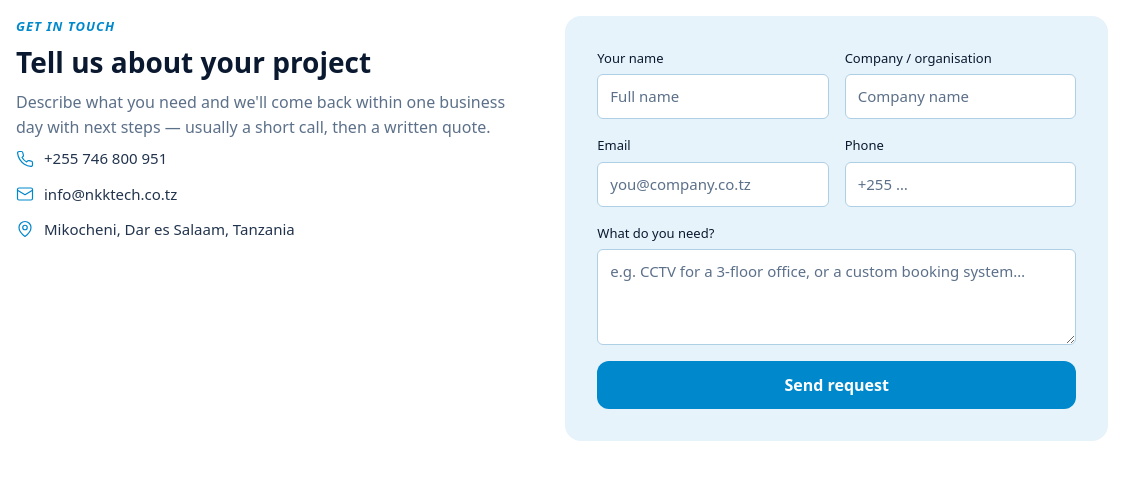
Test: QuoteSection form › shows an error when the email is malformed and no phone is given
Type "Ada Lovelace" into the field labelled "Your name" at (713, 97), box [597,74,829,119]
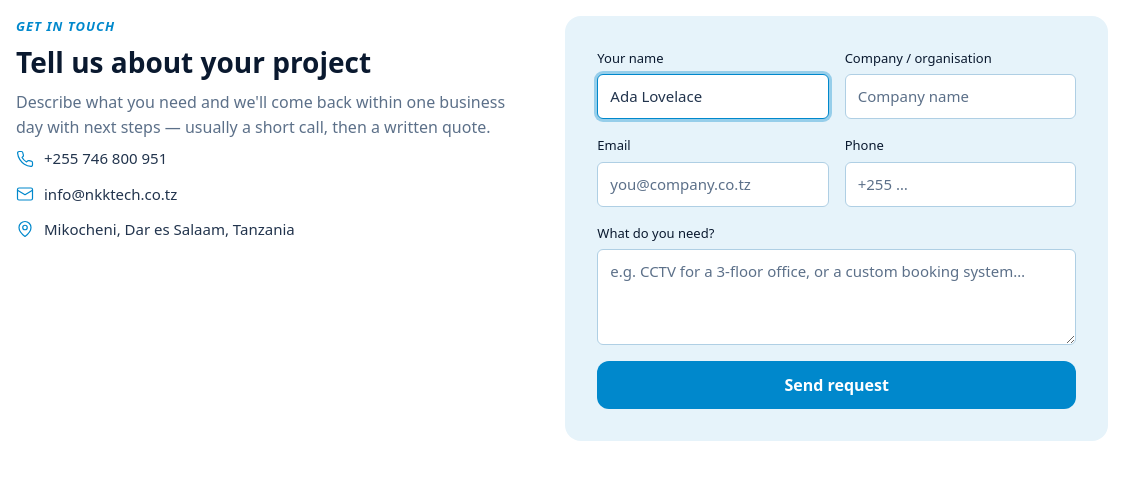
Type "A booking system" into the text box labelled "What do you need?" at (837, 297), box [597,249,1076,345]
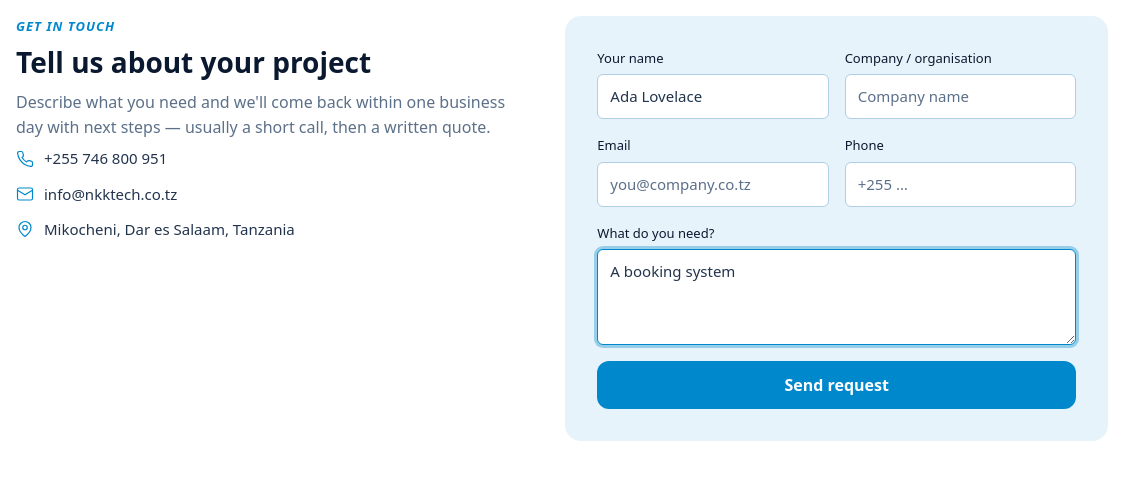
Type "not-an-email" into the field labelled "Email" at (713, 184), box [597,162,829,207]
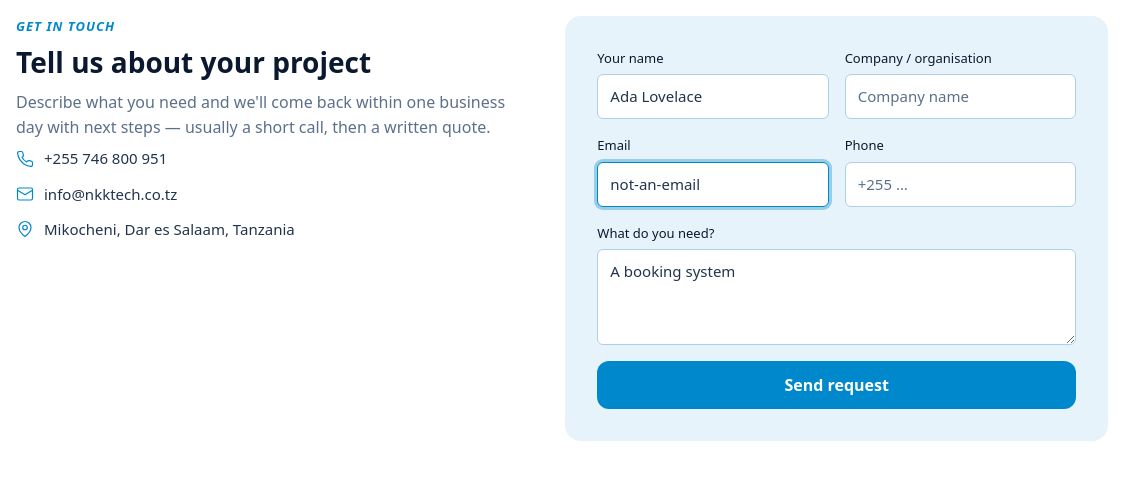
Click the button "Send request" at (837, 385), box [597,361,1076,409]
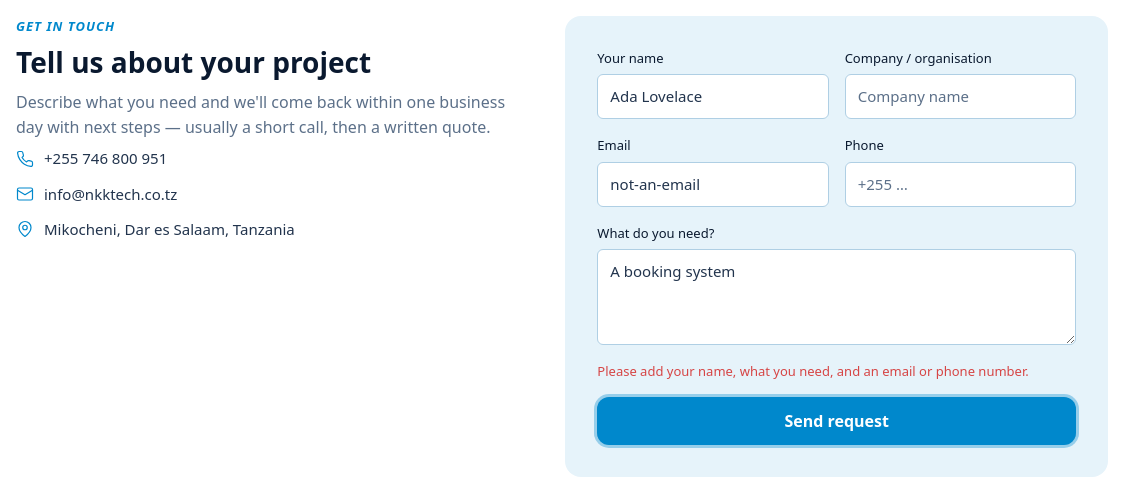
Now the text "Please add your name, what you need, and an email or phone number." is shown, box [597,361,1076,381]
